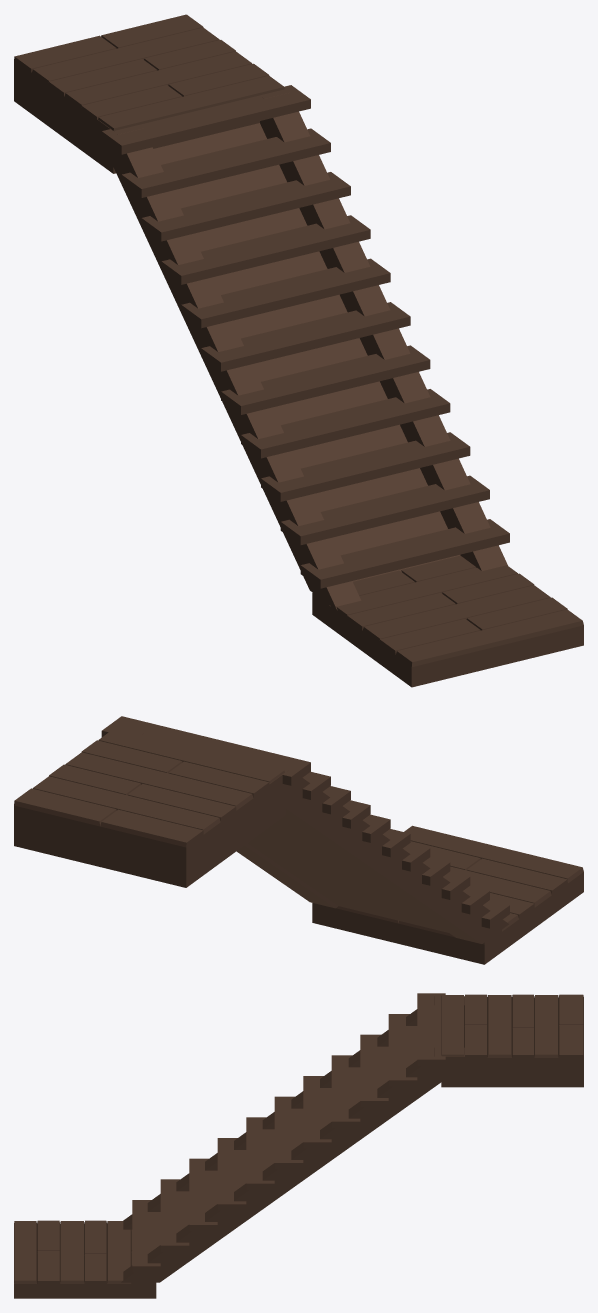
The model's file is S_Stairs.fbx.
3 renders of one model, top to bottom at view 1: azimuth 30°, elevation 25°; view 2: azimuth 150°, elevation 25°; view 3: azimuth 270°, elevation 25°, orthographic. The views are drawn at different scales.
Visible parts, largest first — view 1: S_Stairs, S_Floor, S_Floor.005, S_Ceiling; view 2: S_Stairs, S_Floor.005, S_Floor, S_Ceiling; view 3: S_Stairs, S_Floor.005, S_Floor, S_Ceiling.
Part boxes in pixels (x1,y1,x2,y2): S_Stairs: [88, 85, 509, 610]; S_Floor: [312, 555, 583, 687]; S_Floor.005: [14, 14, 284, 153]; S_Ceiling: [14, 81, 259, 173]; S_Stairs: [101, 716, 509, 943]; S_Floor.005: [14, 728, 284, 867]; S_Floor: [312, 825, 583, 964]; S_Ceiling: [14, 799, 285, 887]; S_Stairs: [121, 993, 476, 1282]; S_Floor.005: [441, 994, 583, 1072]; S_Floor: [14, 1220, 156, 1298]; S_Ceiling: [441, 1072, 583, 1087].
Bounding box in the file's own units: 220 × 377 × 800.
